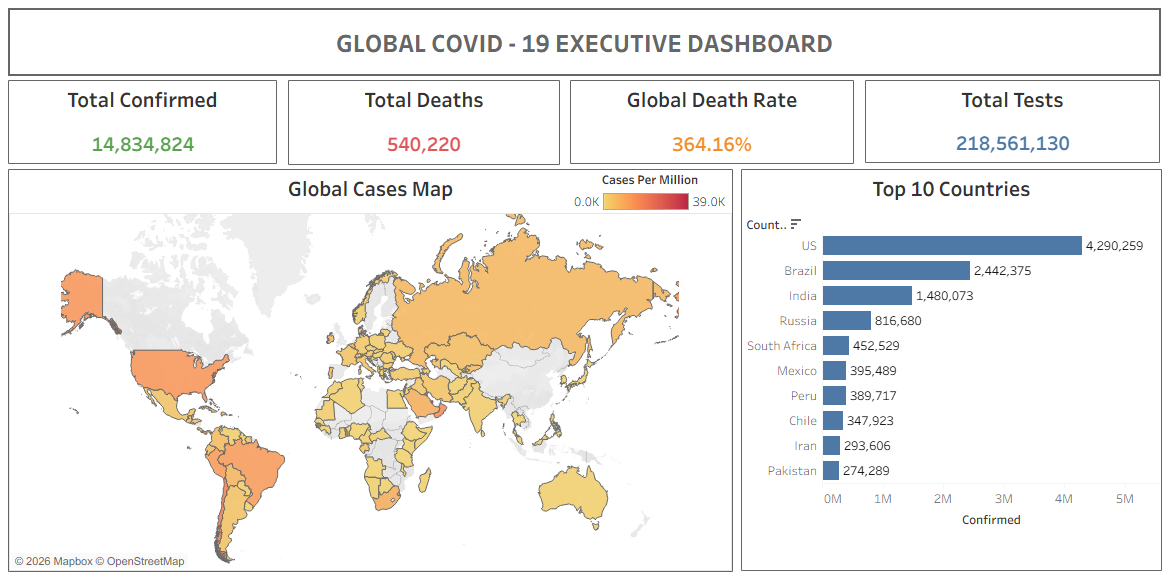

What the dashboard file says about the page in this screenshot:
{"tool":"tableau","page":{"name":"Executive Overview Dashboard","canvas":[1000,1000],"units":"permille","ordinal":1},"visuals":[{"type":"text","box":[20.9,25.7,964.9,116.4]},{"type":"worksheet","title":"Total Confirmed","mark":"Automatic","box":[20.9,149,225.1,143.8]},{"type":"worksheet","title":"Total Deaths","mark":"Automatic","box":[255.2,149,227.6,145.6]},{"type":"worksheet","title":"Global Death Rate","mark":"Automatic","box":[491.2,149,237.7,143.8]},{"type":"worksheet","title":"Total Tests","mark":"Automatic","box":[738.1,149,246.9,142.1]},{"type":"worksheet","title":"Global Cases Map","mark":"Automatic","box":[21.3,301.4,606.7,690.1]},{"type":"worksheet","title":"Top 10 Countries","mark":"Automatic","rows":["Country_Region"],"cols":["Confirmed"],"box":[634.2,301.4,352.5,688.4]},{"type":"legend","title":"Global Cases Map","param":"[federated.172ccab1n8zplu19ebs9x06qiq8m].[usr:Calculation_0934347611996161:qk]","box":[491.6,304.8,133.8,71.9]}]}

Visuals, with their boxes on the dashboard's canvas, which has no fixed pixel size, in thousandths of its width and height (x1, y1, x2, y2). These are canvas units, not pixel positions in the 1173x577 screenshot, which may show the page scaled, cropped or inside an application window:
text: 21,26,986,142
"Total Confirmed" worksheet: 21,149,246,293
"Total Deaths" worksheet: 255,149,483,295
"Global Death Rate" worksheet: 491,149,729,293
"Total Tests" worksheet: 738,149,985,291
"Global Cases Map" worksheet: 21,301,628,992
"Top 10 Countries" worksheet: 634,301,987,990
"Global Cases Map" legend: 492,305,625,377
